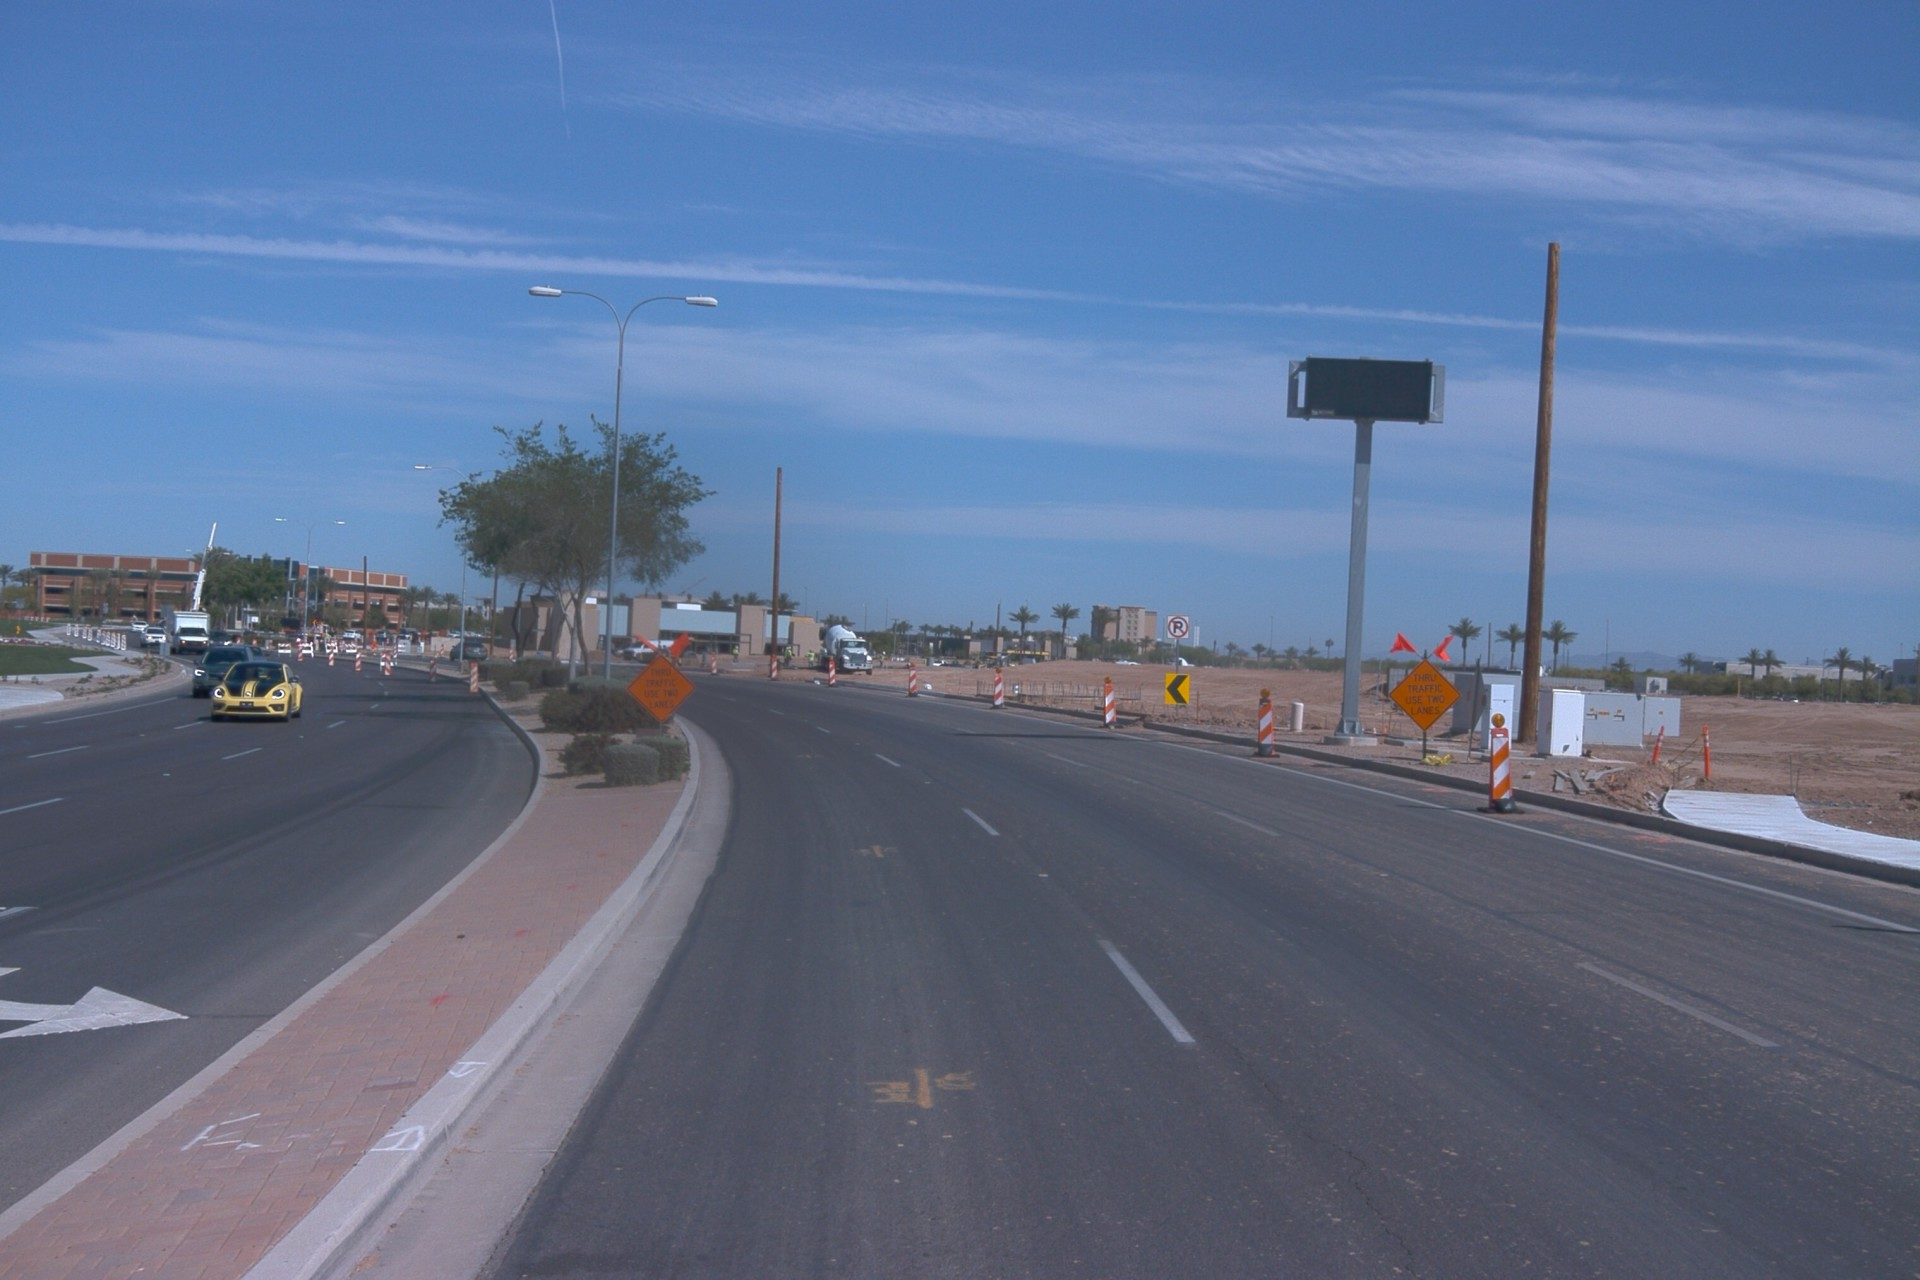TYPE_PEDESTRIAN: (803, 650, 815, 670), (733, 644, 744, 665), (785, 646, 794, 669), (782, 647, 788, 668), (878, 653, 885, 668)
TYPE_VEHICLE: (156, 521, 221, 665), (207, 658, 303, 720), (193, 645, 253, 700), (161, 614, 210, 659), (624, 640, 674, 661), (232, 641, 269, 665), (1512, 660, 1549, 682), (448, 641, 490, 660), (971, 653, 1012, 671), (139, 627, 168, 651), (281, 630, 310, 648), (210, 634, 236, 650), (613, 643, 632, 658), (130, 620, 149, 633), (1114, 660, 1140, 669), (817, 646, 830, 658), (446, 629, 461, 639), (932, 658, 948, 667), (777, 652, 795, 657), (749, 653, 762, 657)
